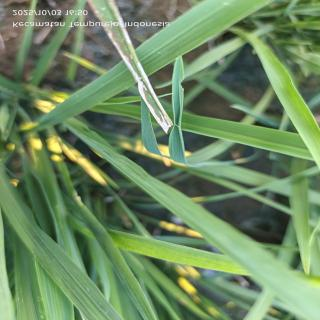Hawar-Daun: (107, 33, 170, 133), (136, 62, 169, 123), (137, 63, 169, 123)
